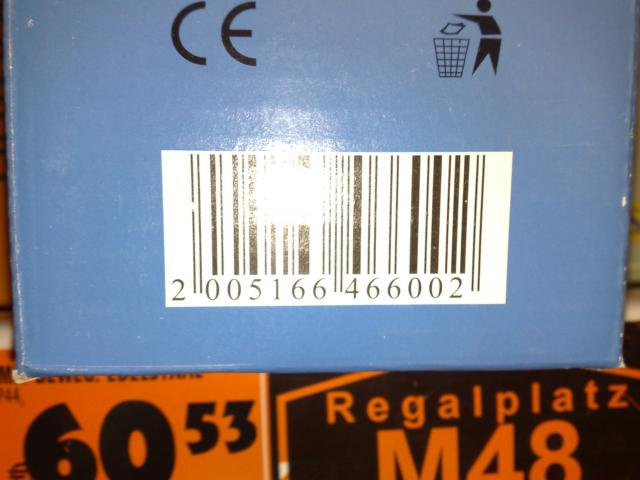Barkod: (184, 151, 486, 275)
